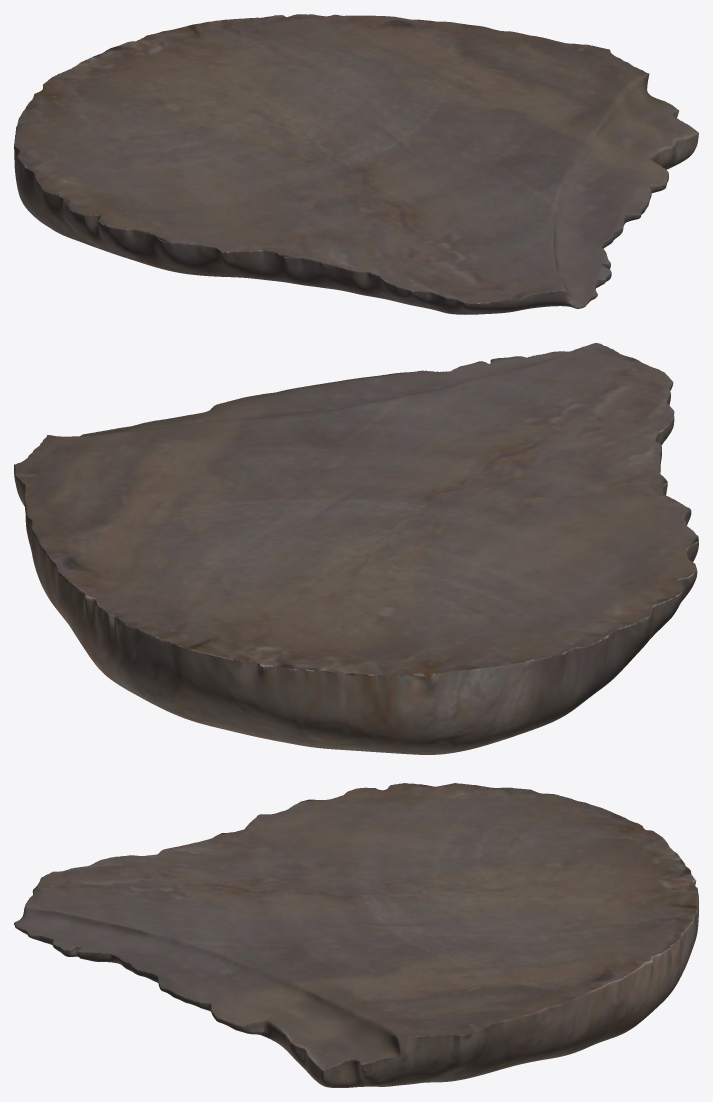
The model's file is litico.glb.
3 views of the same model, one above another, from view 1: azimuth 30°, elevation 25°; view 2: azimuth 150°, elevation 25°; view 3: azimuth 270°, elevation 25° (orthographic). The views are drawn at different scales.
Visible parts, largest first — view 1: fotogrametria; view 2: fotogrametria; view 3: fotogrametria.
Boxes of the visible parts, x1,y1,x2,y2 form: fotogrametria: (14,14,698,314); fotogrametria: (14,343,698,754); fotogrametria: (14,783,698,1087).
Size of the model in its own units: 3.73 by 0.6544 by 4.17.
1 material, 1 textured.
